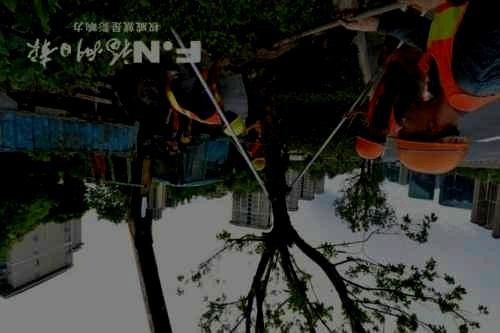helmet: (388, 101, 473, 174), (355, 123, 387, 159), (219, 110, 244, 136), (252, 152, 266, 171)
